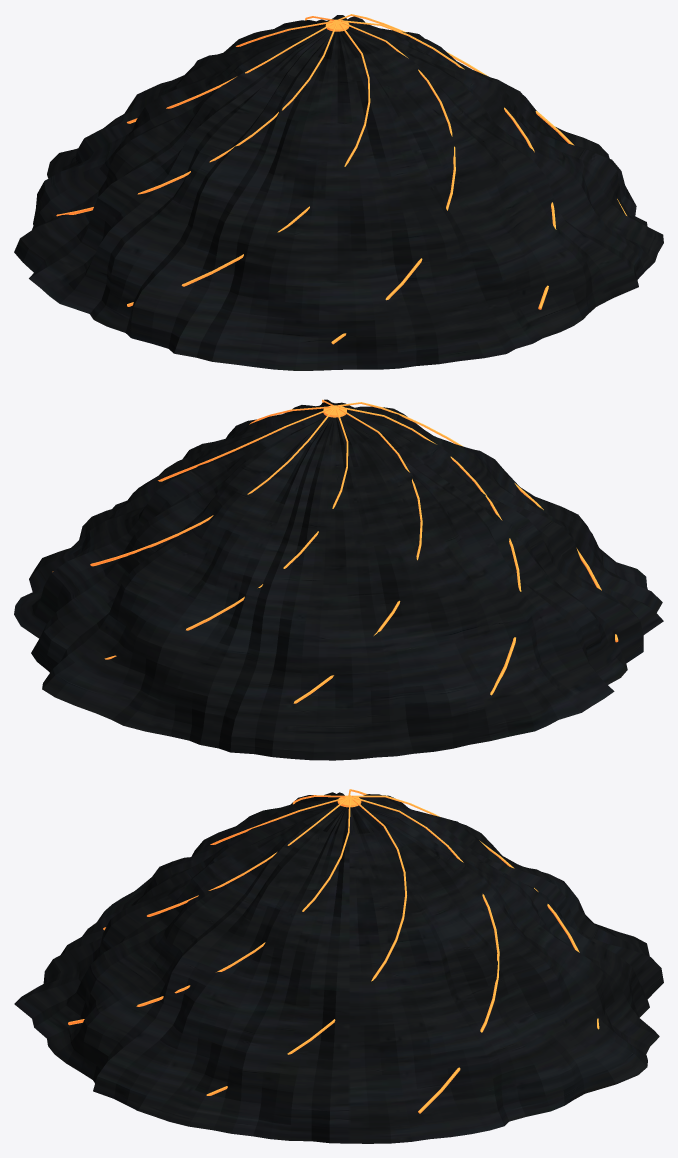
The model's file is volcano-lod0.meshopt.glb.
3 renders of one model, top to bottom at view 1: azimuth 30°, elevation 25°; view 2: azimuth 150°, elevation 25°; view 3: azimuth 270°, elevation 25°, orthographic.
Visible parts, largest first — view 1: BasaltStratovolcano, CinematicBatch_lava; view 2: BasaltStratovolcano, CinematicBatch_lava; view 3: BasaltStratovolcano, CinematicBatch_lava.
Boxes of the visible parts, box(x1,y1,x2,y2) form: BasaltStratovolcano: box(14, 15, 663, 370); CinematicBatch_lava: box(56, 14, 626, 344); BasaltStratovolcano: box(14, 399, 663, 760); CinematicBatch_lava: box(52, 399, 618, 703); BasaltStratovolcano: box(14, 792, 663, 1143); CinematicBatch_lava: box(68, 789, 599, 1113).
Bounding box in the file's own units: 135 × 52.3 × 138.
Materials: 2 (1 with a texture image).
